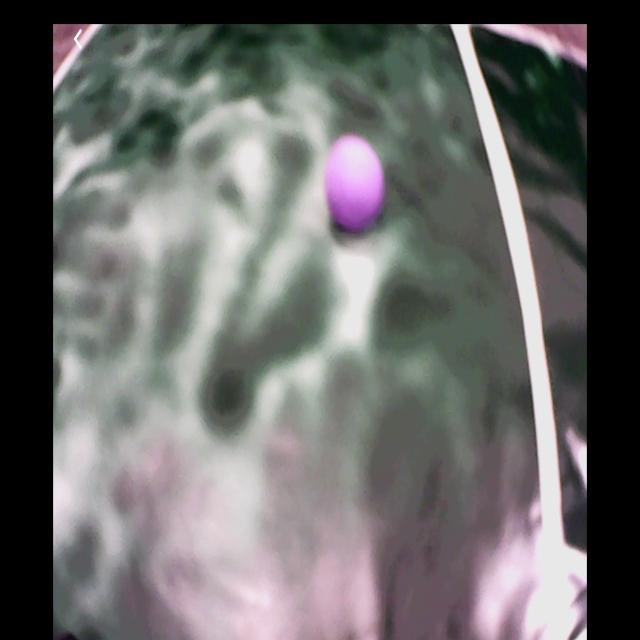ball: (326, 133, 383, 228)
